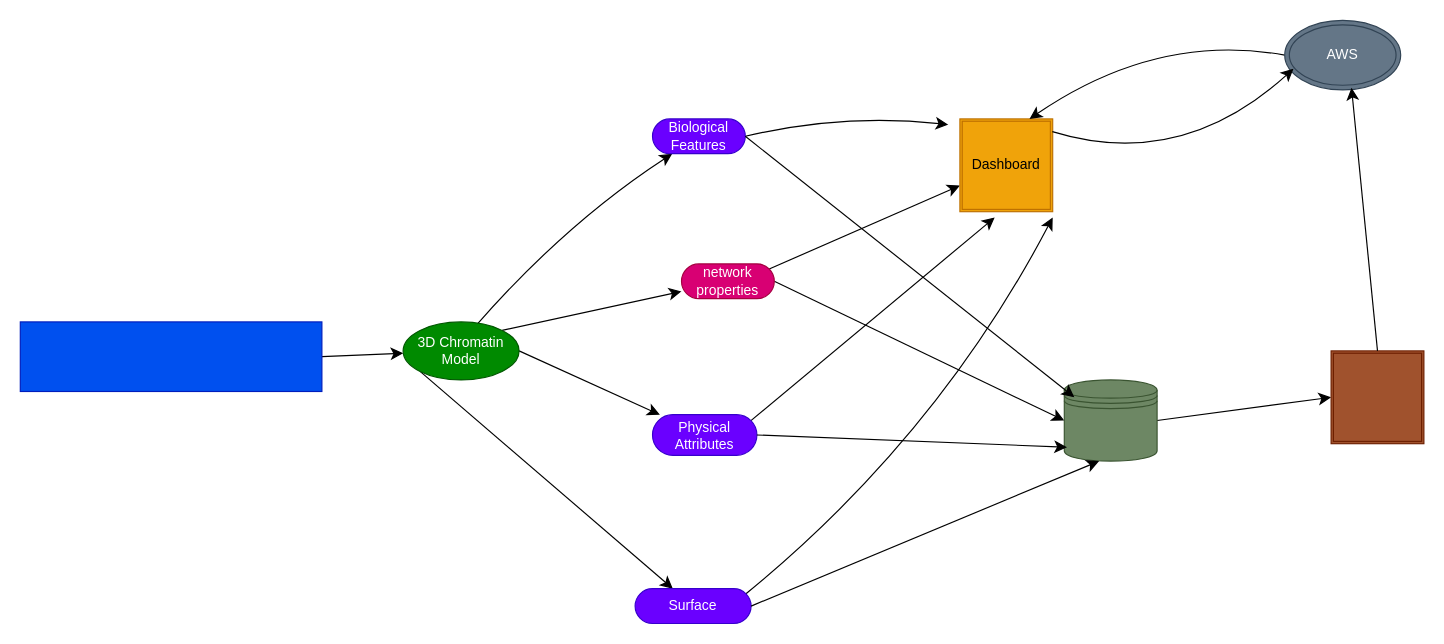
The diagram is 1444 pixels wide and 644 high, and some of its shapes have lost their labels. The box of each missing label's shape, as (x1, y1, x2, y2) in pixels:
Chromosome Surface Analysis: (19, 321, 322, 392)
Docker: (1330, 350, 1424, 444)
Nextflow Pipeline: (1063, 379, 1157, 461)
